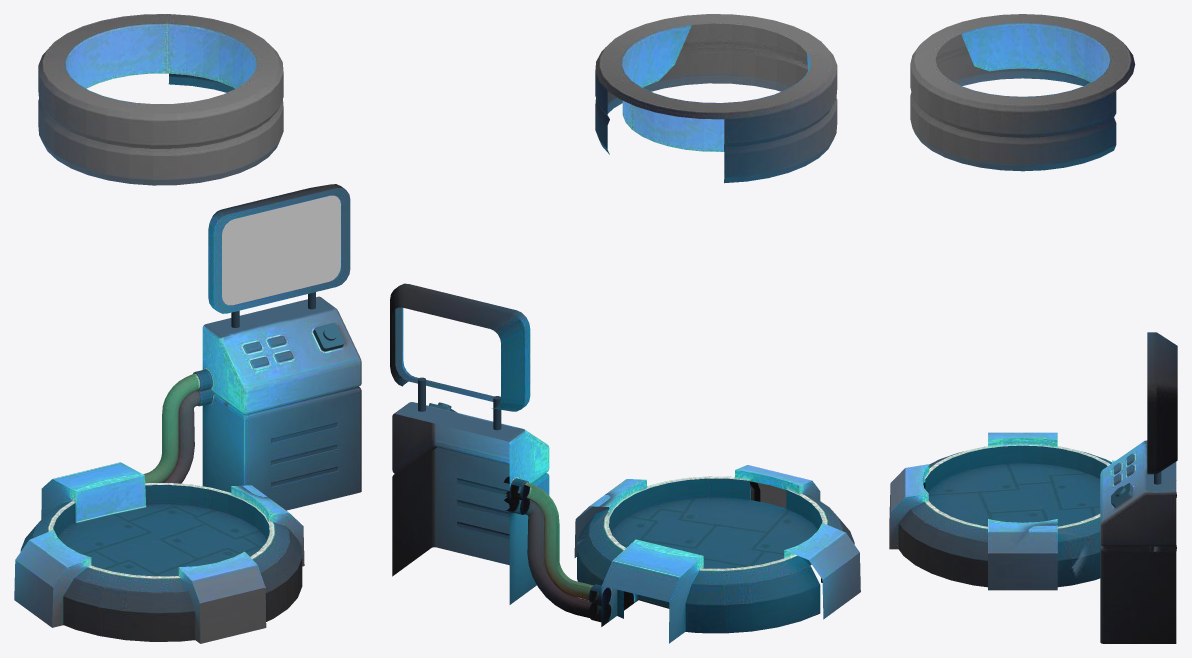
Rendered from lab2.glb.
3 renders of one model, left to right at view 1: azimuth 30°, elevation 25°; view 2: azimuth 150°, elevation 25°; view 3: azimuth 270°, elevation 25°, orthographic. The views are drawn at different scales.
Visible parts, largest first — view 1: merged-scene, Plane, pc-button; view 2: merged-scene; view 3: merged-scene.
Boxes of the visible parts, x1=… form: merged-scene: x1=14, y1=14, x2=361, y2=643; Plane: x1=222, y1=195, x2=340, y2=305; pc-button: x1=313, y1=323, x2=344, y2=351; merged-scene: x1=390, y1=14, x2=860, y2=643; merged-scene: x1=889, y1=14, x2=1177, y2=643.
Size of the model in its own units: 5.62 by 7.23 by 3.98.
3 materials, 1 textured.
